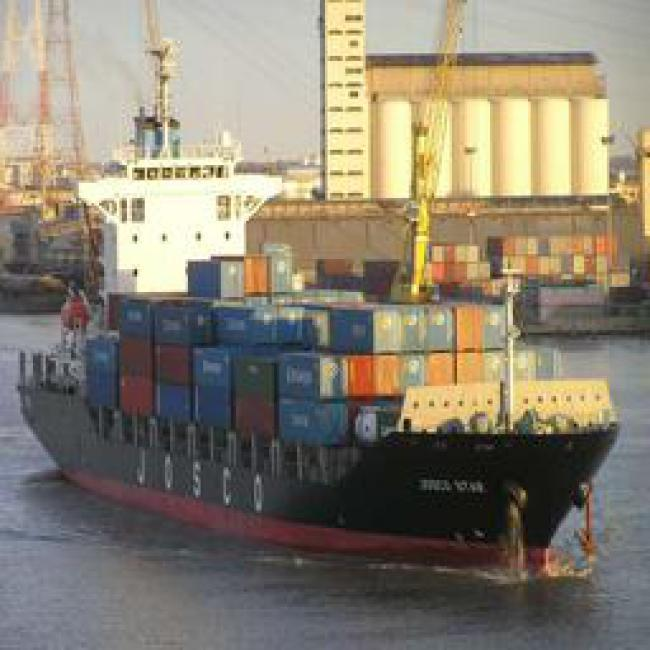Ship: (3, 209, 621, 575)
